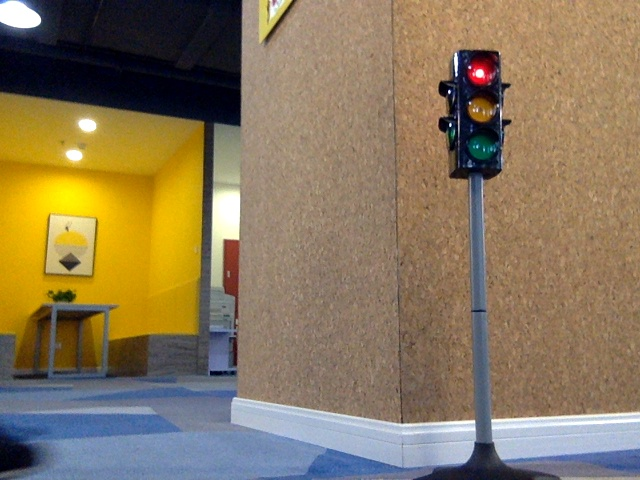red: (457, 57, 497, 165)
